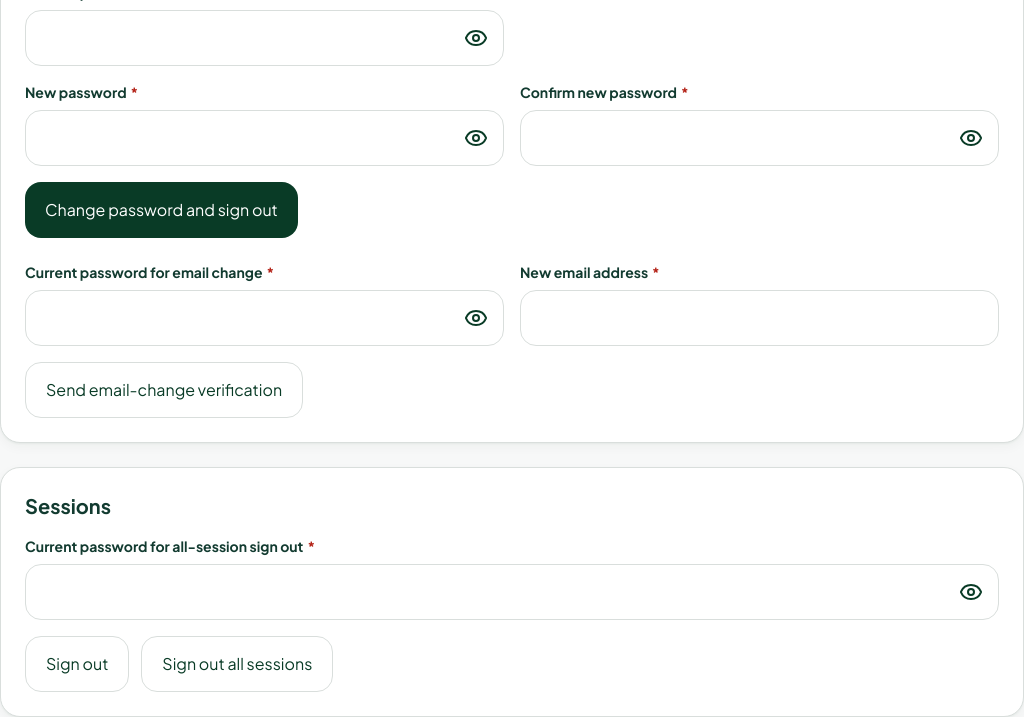
shared account management › shows a rejected logout without navigating away
The width and height of the screenshot is (1024, 717).
(page scrolled)
Click the button "Sign out".
click(77, 664)  # box x1=25 y1=636 x2=129 y2=692
(page scrolled)
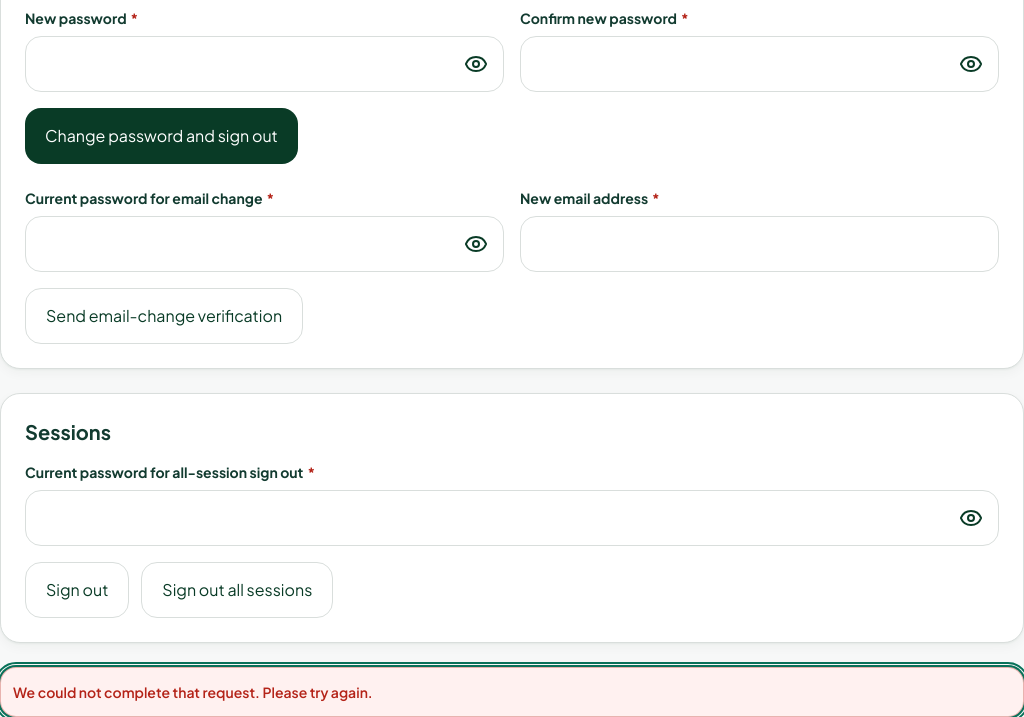
Expected: the button "Sign out" is enabled, x1=25 y1=562 x2=129 y2=618
Expected: the message shows "We could not complete that request", x1=13 y1=683 x2=373 y2=701
